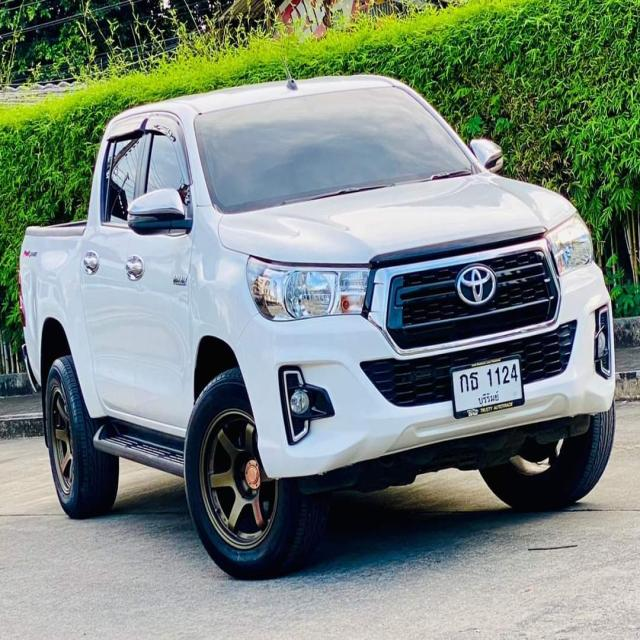license_plate: (448, 352, 526, 422)
